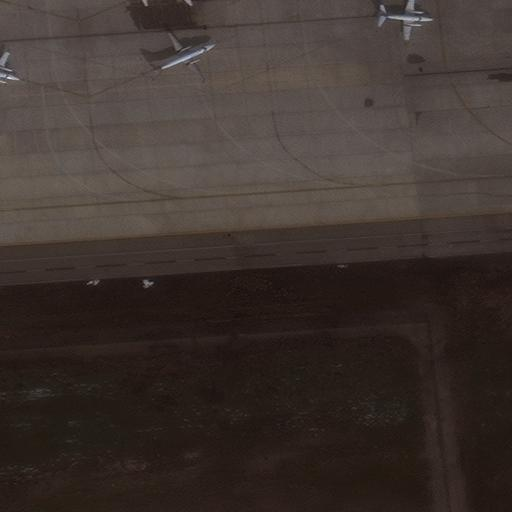Medium Civil Transport: (154, 28, 216, 80)
Small Civil Transport: (375, 0, 434, 39), (0, 53, 20, 90)
